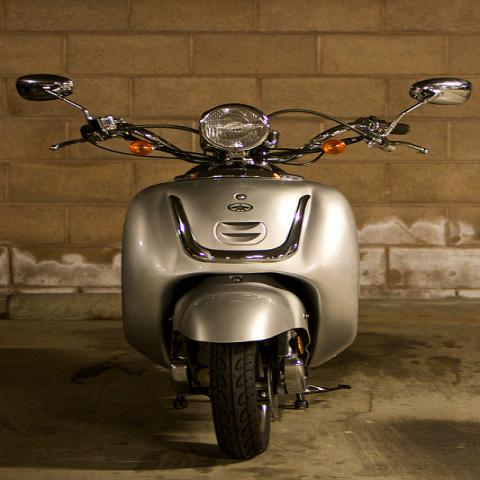motorcycle: (18, 74, 474, 460)
